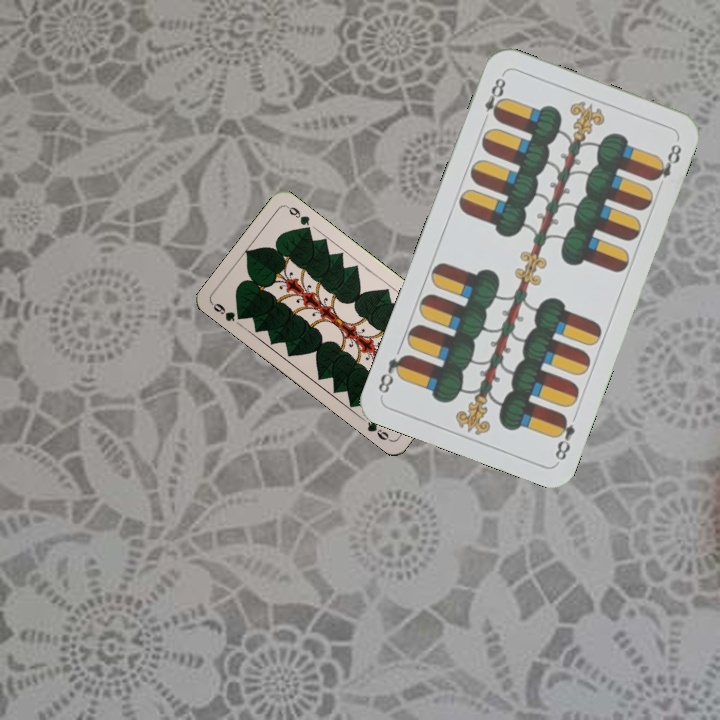E8: (480, 70, 509, 123), (550, 410, 578, 463)
G9: (208, 299, 247, 324)
